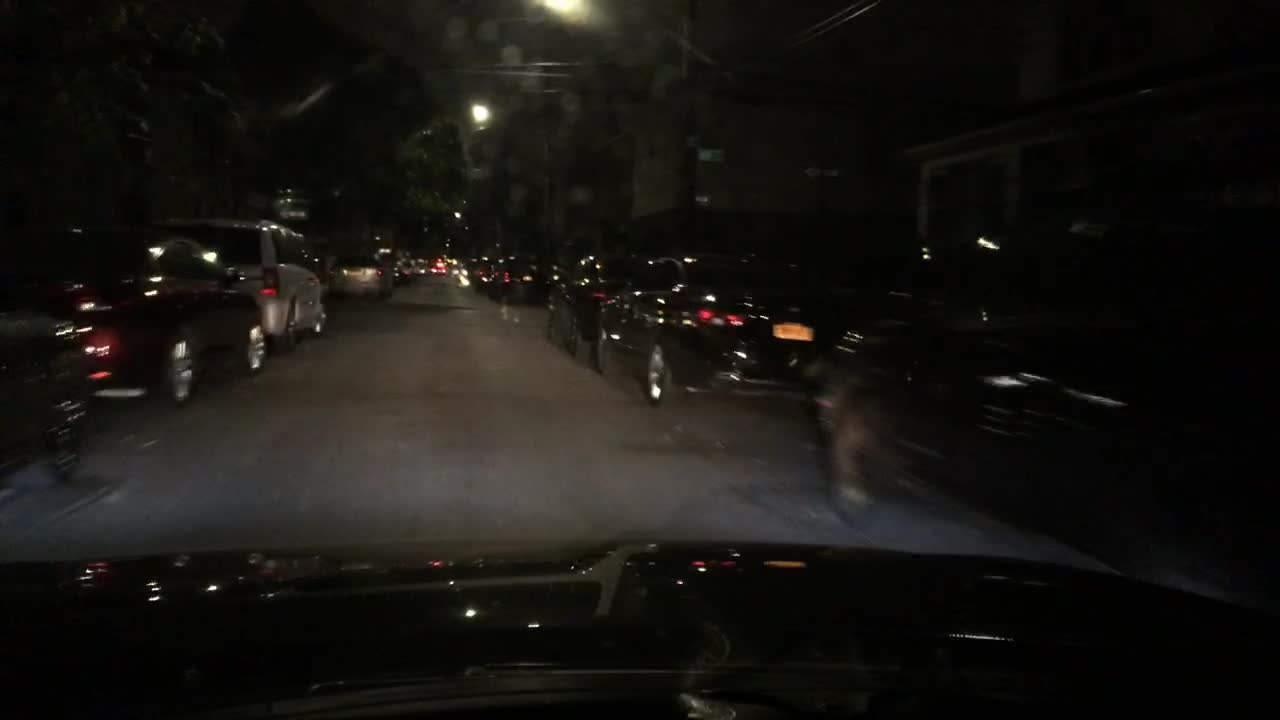car: (813, 224, 1277, 544), (593, 251, 879, 405), (29, 234, 270, 405), (1, 240, 103, 483), (164, 214, 327, 351), (545, 247, 621, 361), (485, 249, 553, 304), (327, 249, 394, 303), (378, 250, 411, 282), (473, 260, 499, 291), (465, 259, 480, 285), (411, 257, 423, 276), (432, 259, 446, 274), (457, 261, 468, 274), (423, 260, 432, 275)
